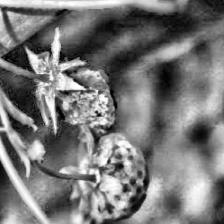Gray Mold: (24, 28, 118, 145)
